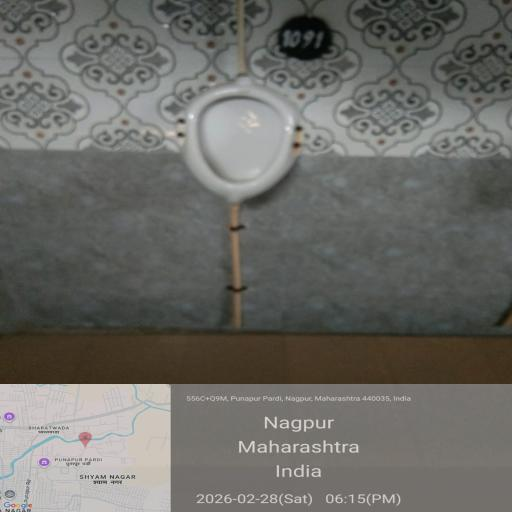clean_urinal: (151, 40, 338, 230)
